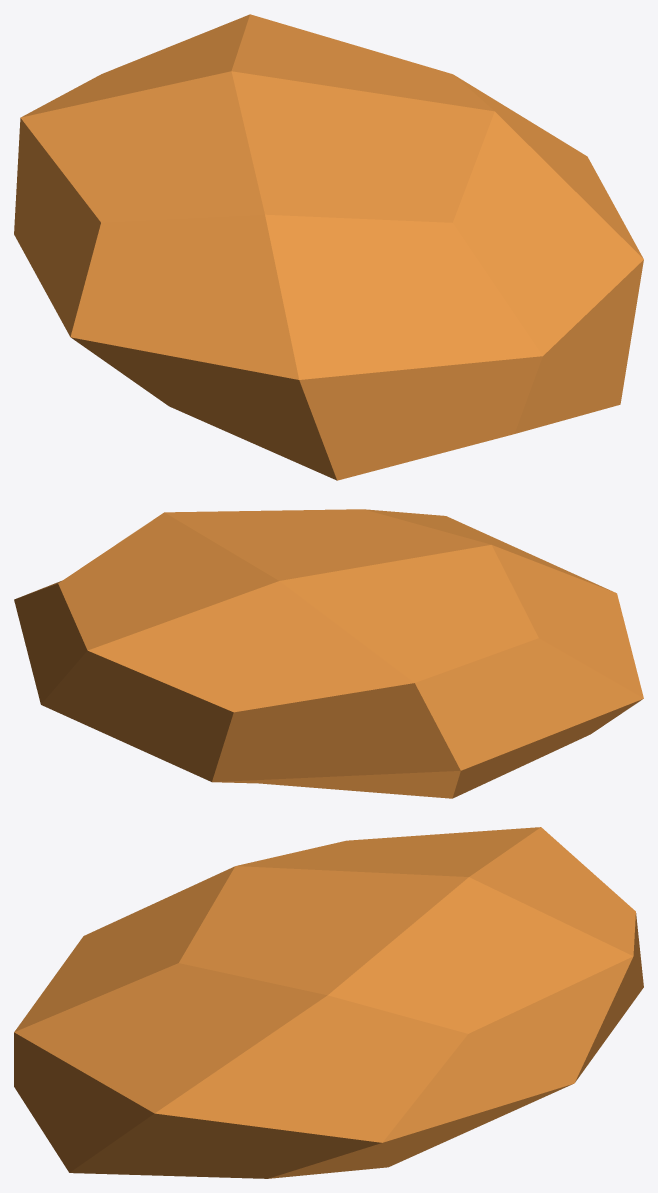
Rendered from SM_FloatingStone_A.fbx.
3 renders of one model, top to bottom at view 1: azimuth 30°, elevation 25°; view 2: azimuth 150°, elevation 25°; view 3: azimuth 270°, elevation 25°, orthographic. The views are drawn at different scales.
Parts seen in each view (by area): view 1: SM_FloatingStone_A; view 2: SM_FloatingStone_A; view 3: SM_FloatingStone_A.
Boxes of the visible parts, left/top/right/bottom form: SM_FloatingStone_A: left=14, top=14, right=643, bottom=480; SM_FloatingStone_A: left=14, top=509, right=643, bottom=798; SM_FloatingStone_A: left=14, top=827, right=643, bottom=1178.
Size of the model in its own units: 77.28 by 32.91 by 77.29.
